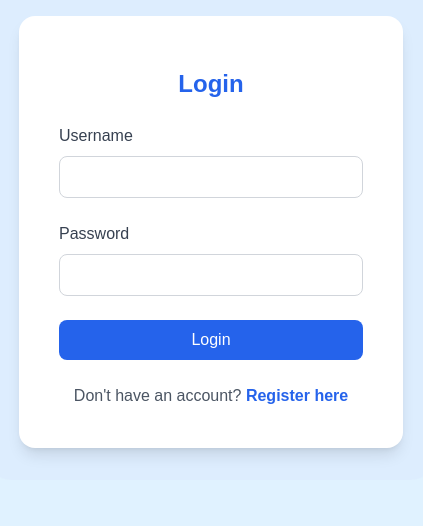
Test: UserLoginForm › shows validation errors for empty fields
The width and height of the screenshot is (423, 526).
# Submit form without filling any fields
Click the button "Login".
click(211, 340)  # box left=59, top=320, right=363, bottom=360
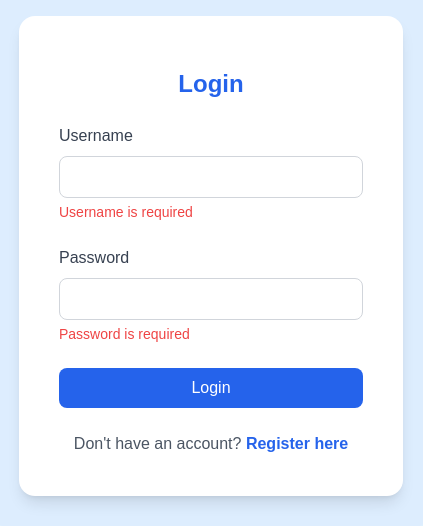
Expected: the text "Username is required" is shown, left=59, top=204, right=193, bottom=220
Expected: the text "Password is required" is shown, left=59, top=326, right=190, bottom=342
